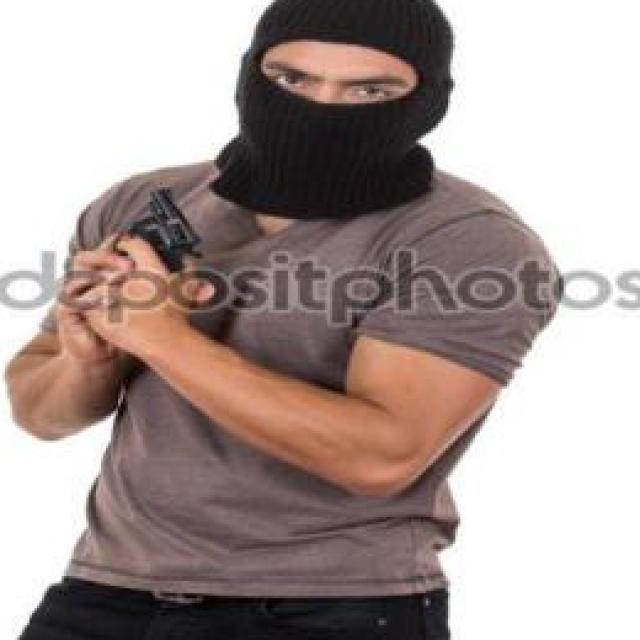pistol: (96, 187, 208, 324)
